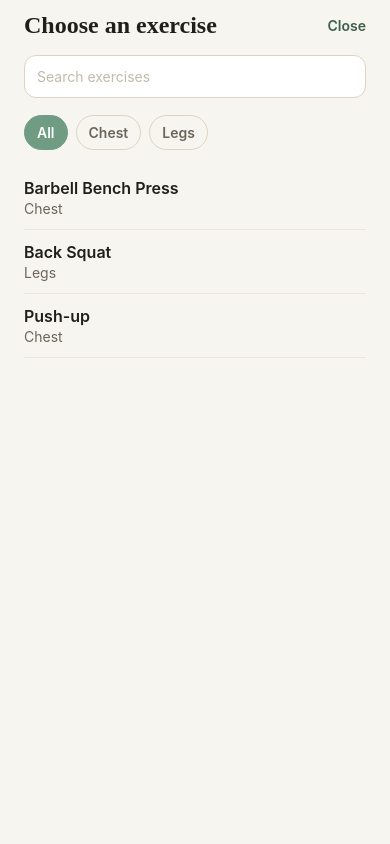
Test case: ExercisePickerScreen › filters by muscle group chip
This screenshot has width=390, height=844.
Click the element with test id "exercise-picker-filter-legs": (179, 132) [149, 114, 208, 150]
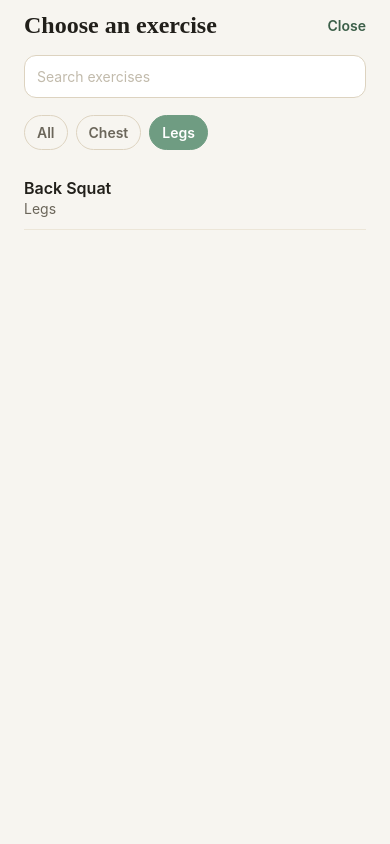
Check: the element with test id "exercise-picker-item-ex-2" is shown, box [24, 166, 366, 230]
Check: the element with test id "exercise-picker-item-ex-1" is gone
